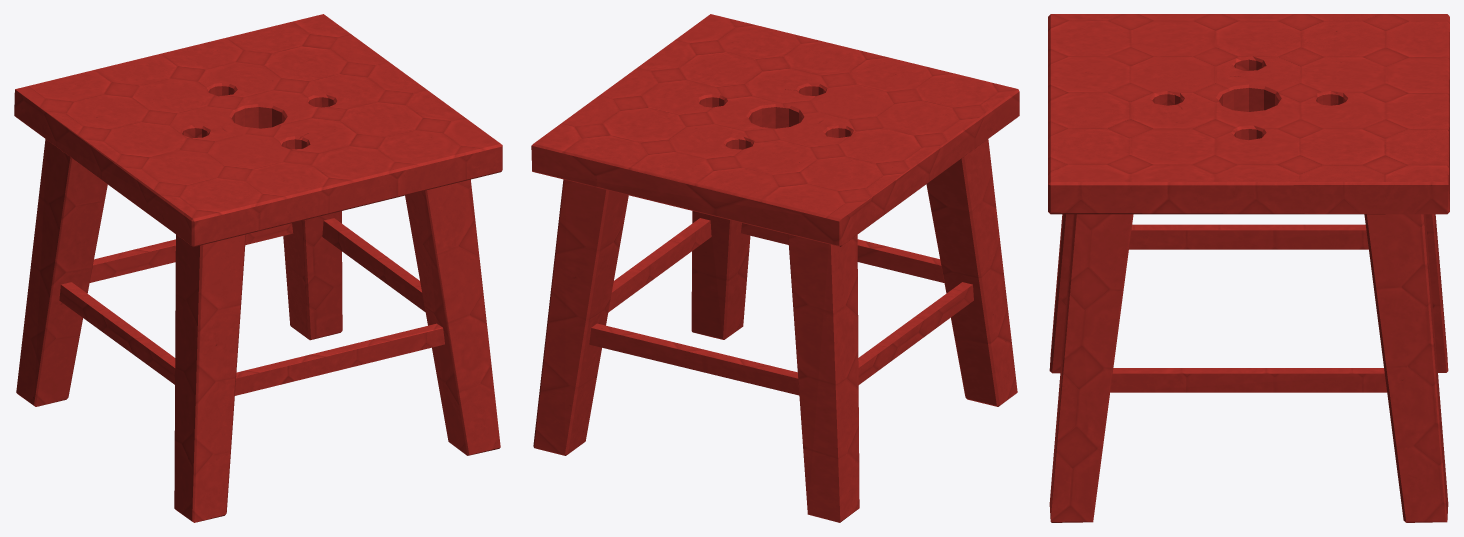
The model's file is ghe_nhua_do.glb.
The picture shows the model from 3 angles, left to right: view 1: azimuth 30°, elevation 25°; view 2: azimuth 150°, elevation 25°; view 3: azimuth 270°, elevation 25°; orthographic projection. The views are drawn at different scales.
Parts seen in each view (by area): view 1: stool; view 2: stool; view 3: stool.
Boxes of the visible parts, box(x1,y1,x2,y2) form: stool: box(14, 14, 502, 522); stool: box(531, 14, 1019, 522); stool: box(1048, 14, 1449, 522).
Size of the model in its own units: 0.32 by 0.3 by 0.32.
1 material, 1 textured.
